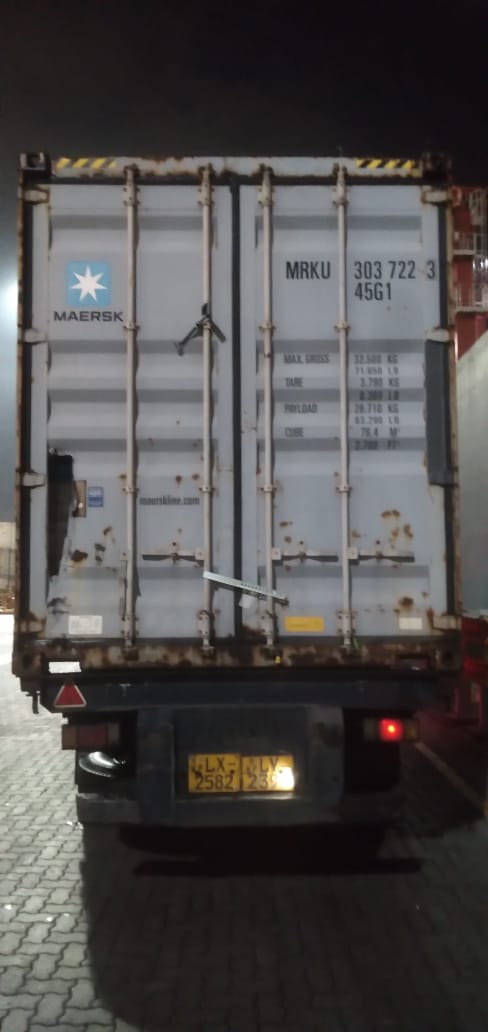cut: (27, 441, 100, 583)
